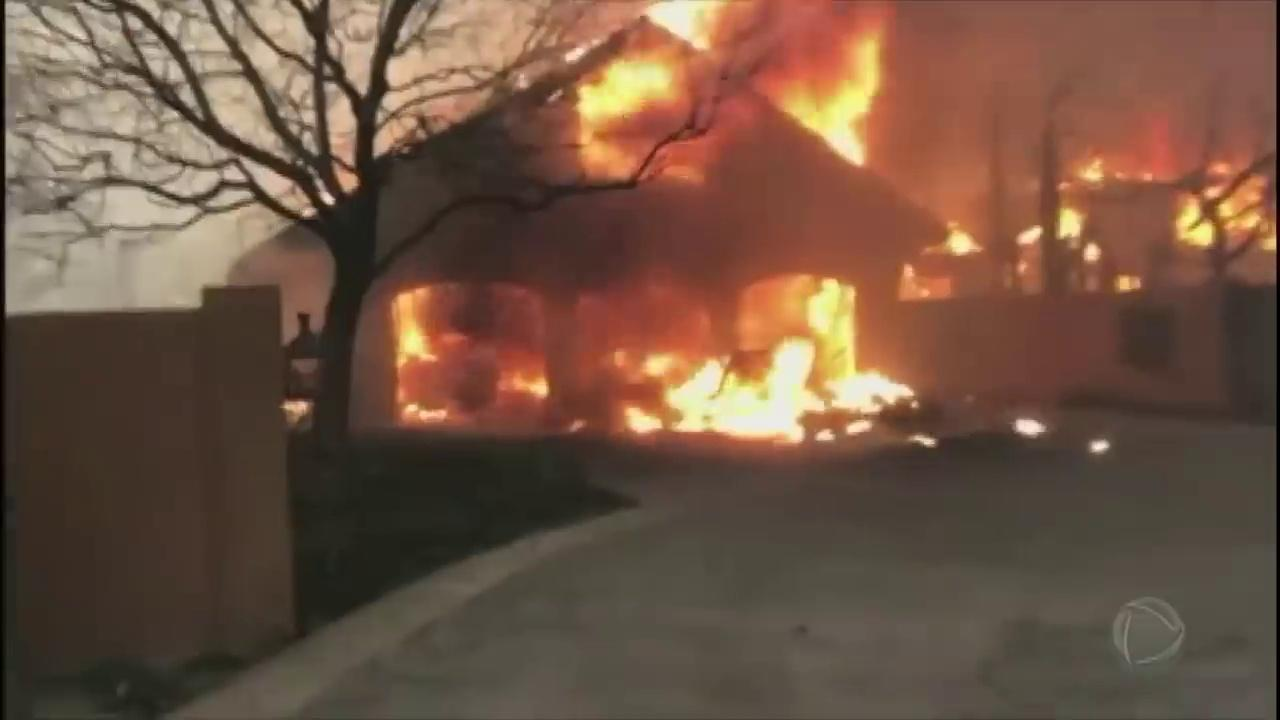fire: (600, 328, 929, 450), (397, 305, 550, 432), (777, 24, 895, 170), (593, 57, 707, 185), (1170, 149, 1277, 249), (1020, 205, 1102, 264), (1057, 145, 1129, 190), (930, 219, 985, 270), (1085, 431, 1118, 458), (1011, 419, 1047, 440), (1115, 274, 1139, 289)
